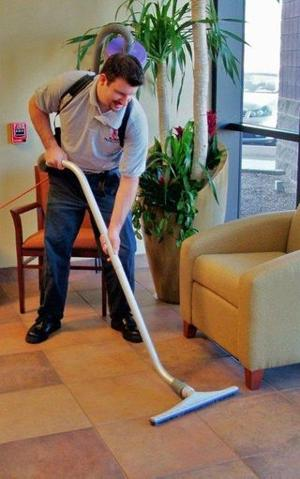person: (28, 53, 145, 347)
